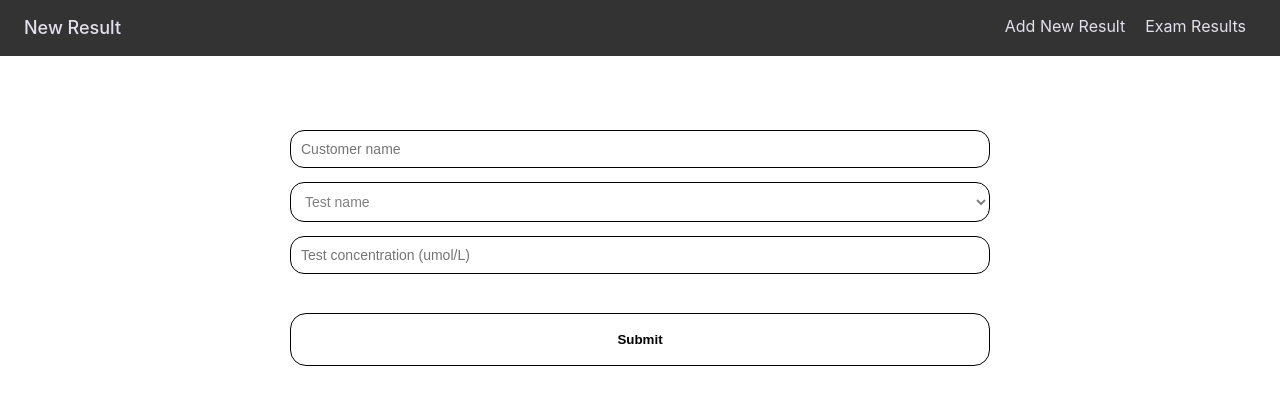
Test: <Add New Result> › should submit value to state correctly and render success message
Type "test customer name" into the field with placeholder "Customer name". click: [640, 149]
box: [290,130,990,168]
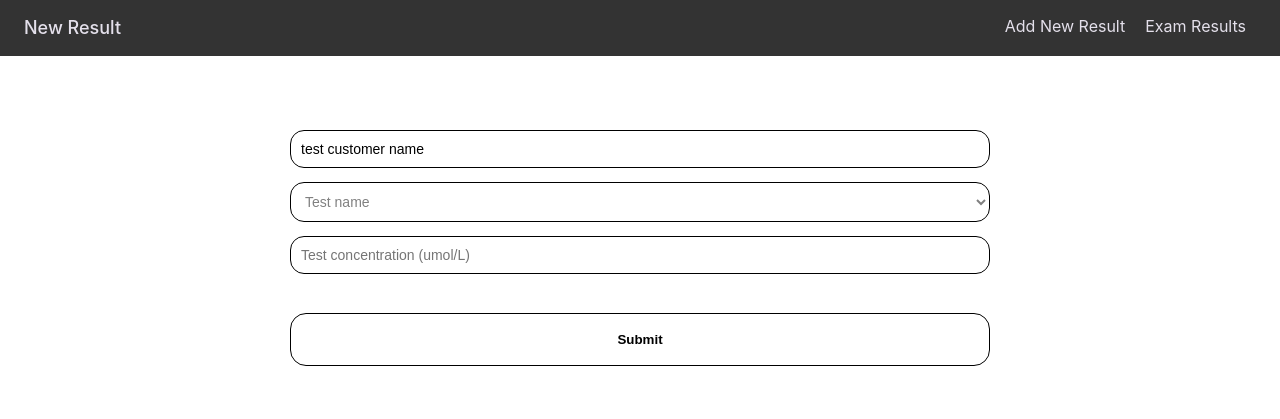
Type "10" into the number field with placeholder "Test concentration (umol/L)". click: [640, 255]
box: [290,236,990,274]
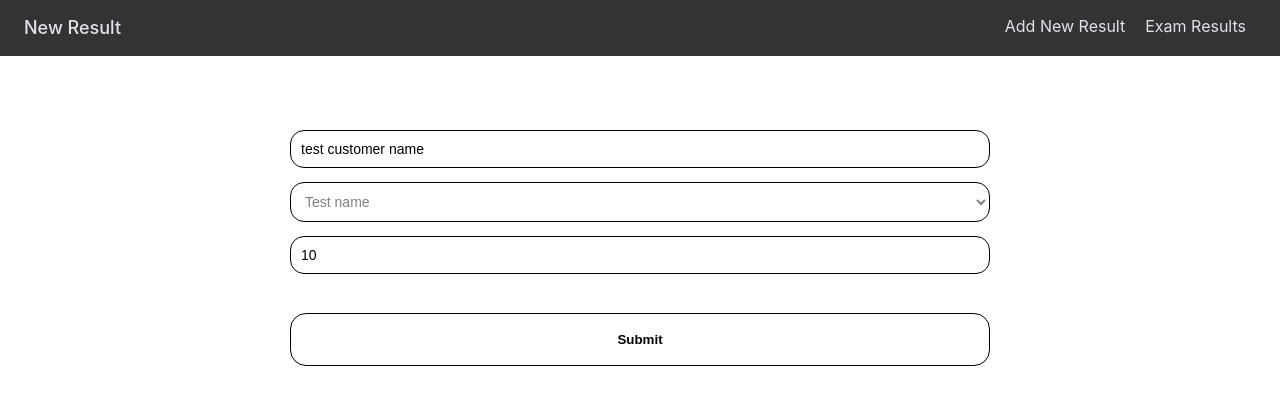
Select "Epigenetics" in the dropdown with test id "test-name-select". click: [640, 202]
box: [290,182,990,222]
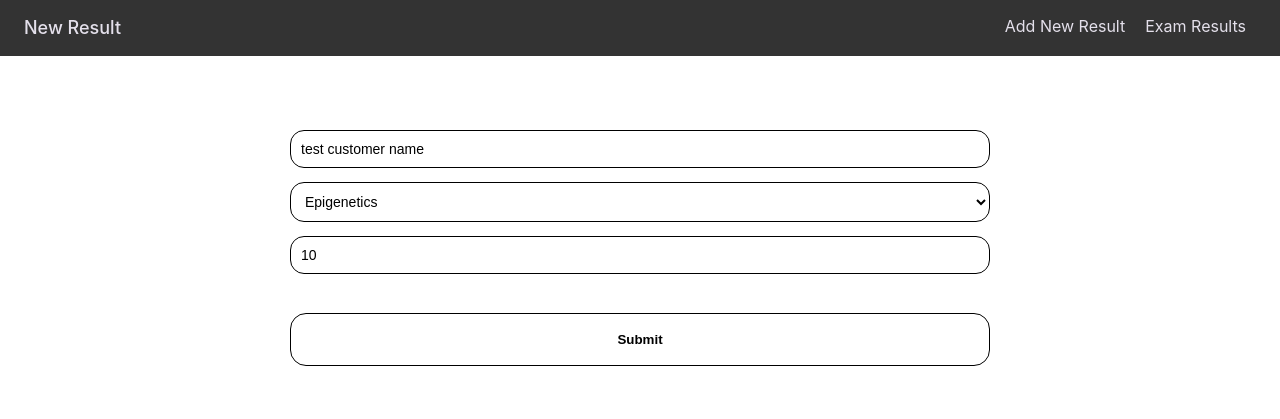
# Click submit button
Click the button with test id "submit-exam-button". click: [640, 340]
box: [290,313,990,366]
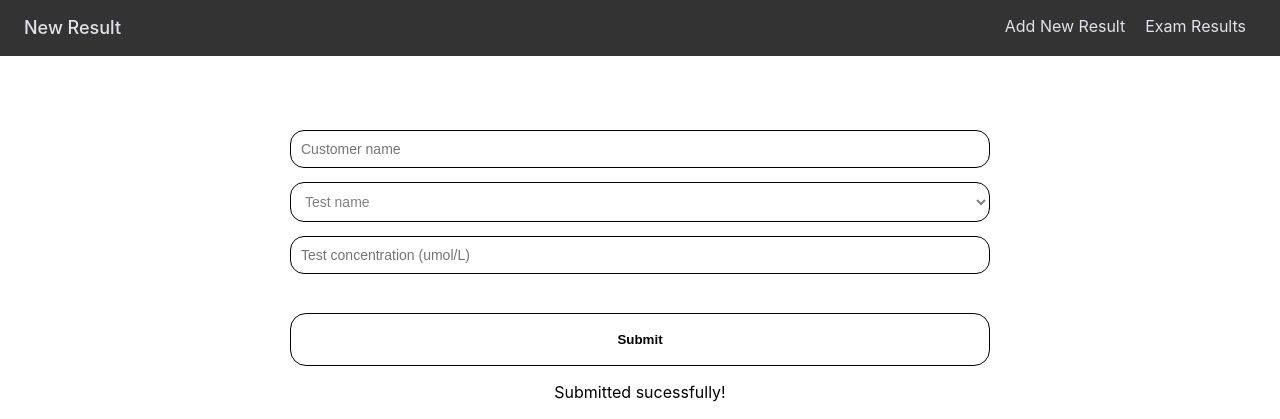
Expected: the text "Submitted sucessfully!" is shown, [554,382,726,402]
